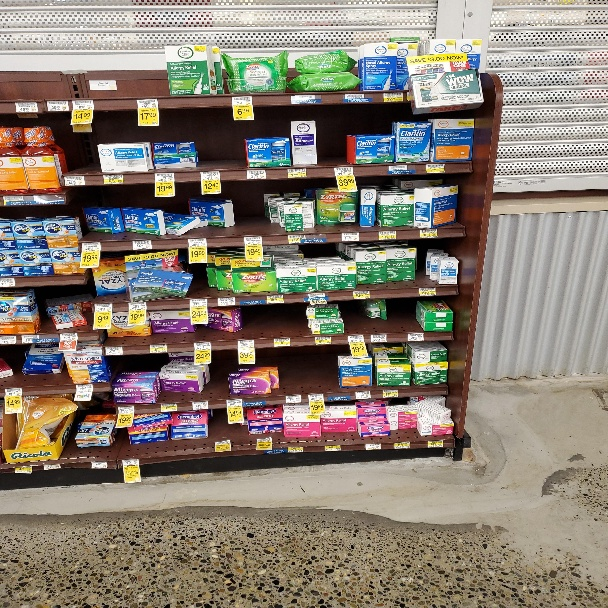All PRICE TAGS: (15, 102, 38, 113), (47, 100, 67, 111), (292, 95, 319, 103), (72, 100, 93, 109), (137, 99, 158, 108), (232, 96, 252, 105), (81, 242, 100, 251), (133, 240, 152, 249), (201, 171, 219, 180), (426, 164, 444, 173), (188, 238, 206, 247), (383, 93, 403, 101), (64, 176, 84, 184), (105, 346, 122, 355), (288, 168, 305, 177), (94, 303, 111, 312), (128, 302, 147, 310), (155, 173, 174, 181), (334, 167, 353, 175), (344, 94, 365, 101), (218, 297, 234, 306), (21, 335, 39, 343), (59, 333, 77, 341), (90, 461, 108, 469), (104, 175, 122, 183), (248, 170, 266, 178), (389, 165, 407, 173), (194, 342, 211, 350), (150, 344, 167, 352), (420, 229, 437, 237), (1, 336, 16, 345), (4, 389, 23, 396), (286, 395, 302, 403), (238, 340, 254, 348), (190, 299, 206, 307), (245, 237, 261, 245), (342, 233, 358, 241), (379, 231, 395, 239), (257, 439, 272, 447), (383, 388, 398, 396), (408, 332, 423, 340), (161, 404, 178, 411), (274, 338, 291, 345), (307, 293, 324, 300), (366, 442, 380, 450), (123, 459, 139, 466), (356, 391, 370, 399), (309, 393, 323, 401), (193, 402, 209, 409), (118, 406, 134, 413), (419, 288, 435, 295), (267, 296, 283, 303), (288, 235, 302, 243), (227, 399, 242, 406), (372, 334, 387, 341), (349, 335, 364, 342), (353, 291, 368, 298), (1, 279, 14, 287), (75, 385, 92, 391), (43, 464, 60, 470), (396, 441, 410, 448), (316, 336, 330, 343), (311, 235, 325, 242), (16, 468, 31, 474), (430, 441, 443, 447), (326, 445, 339, 451)
